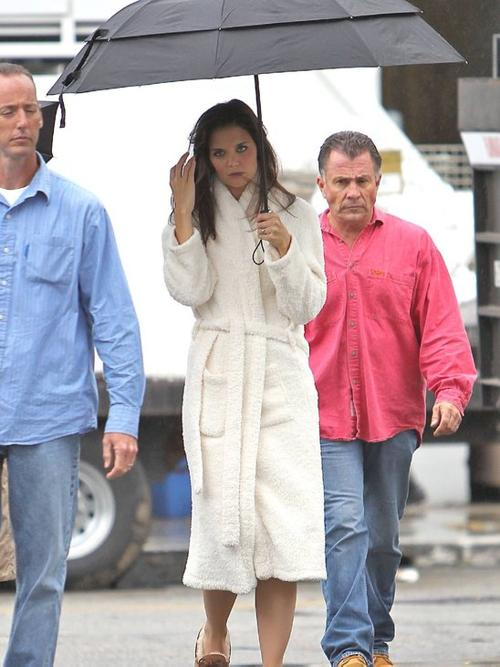person: (161, 99, 330, 667)
